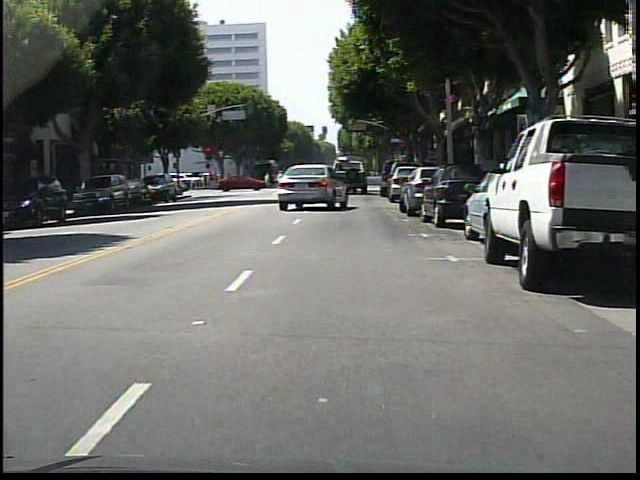person: (276, 170, 287, 193), (298, 167, 306, 193), (267, 172, 270, 190)
